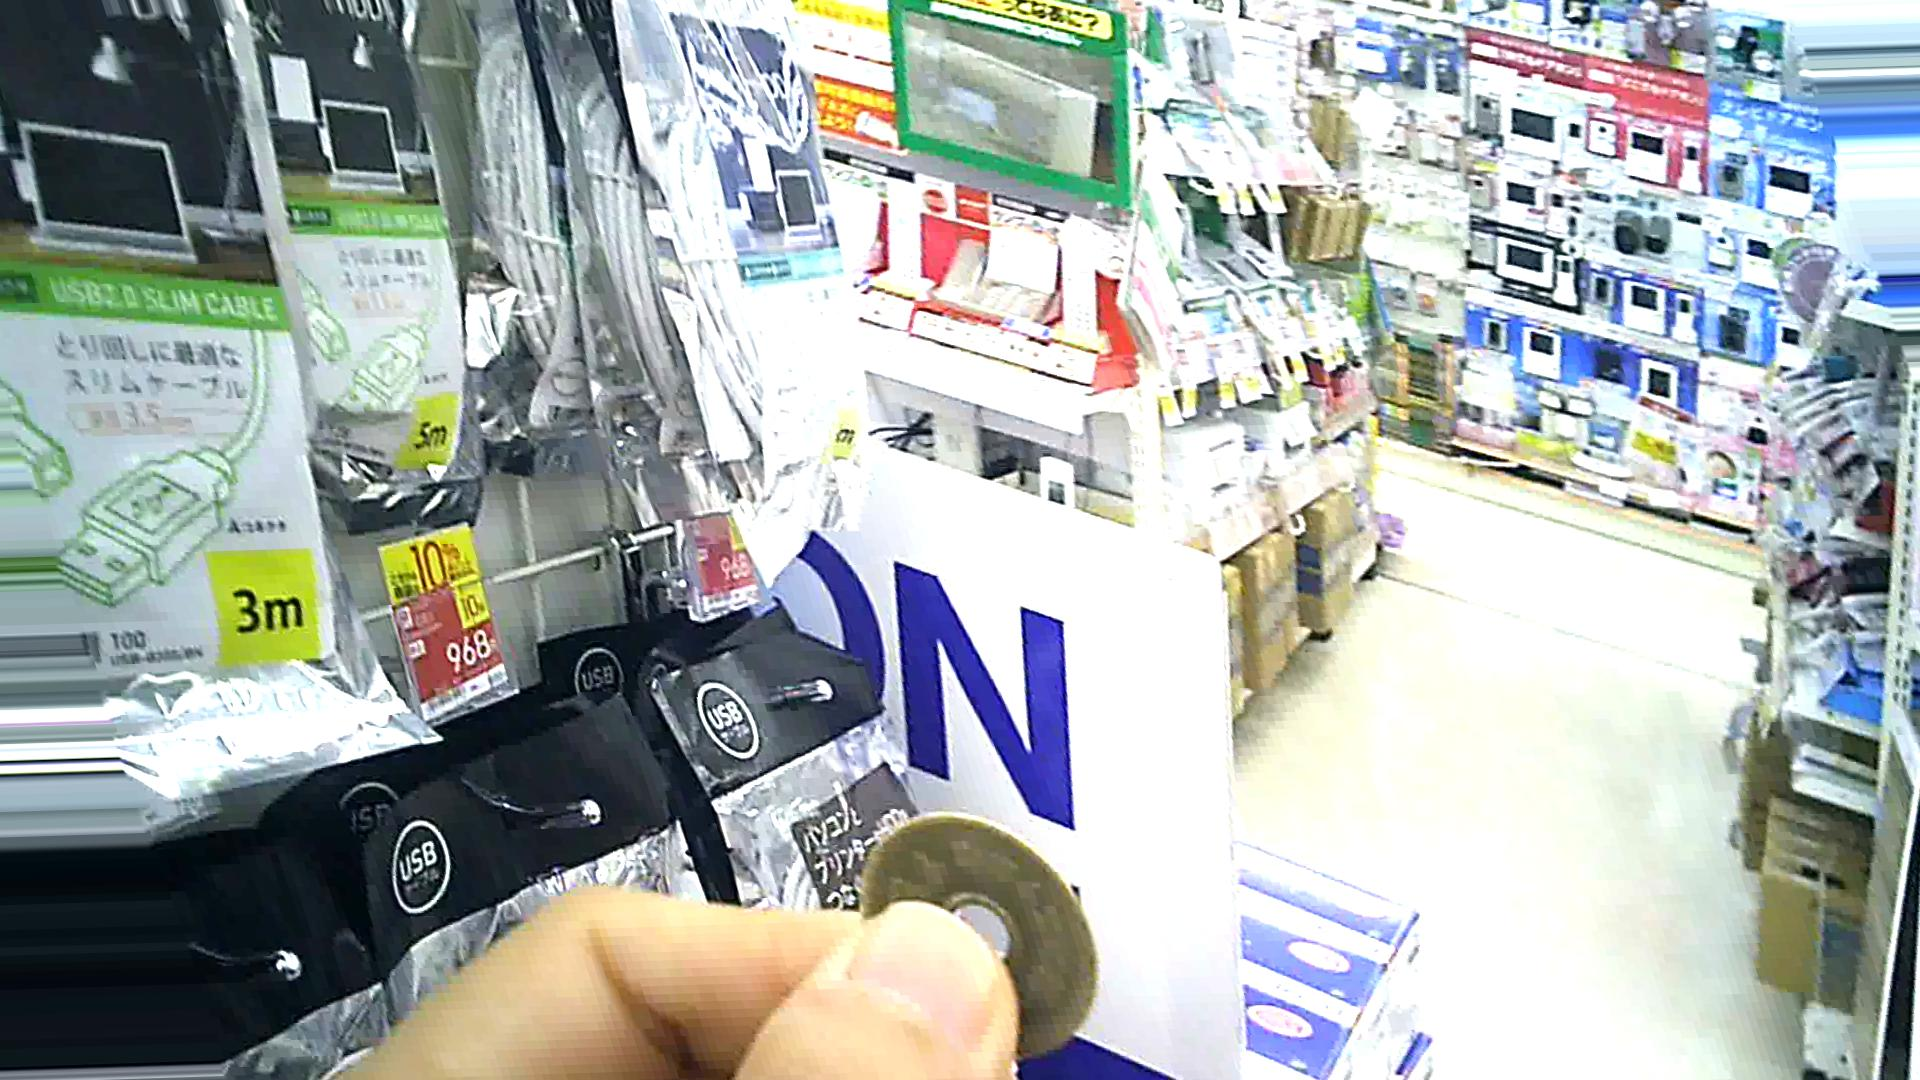5 Yen: (843, 812, 1104, 1079)
